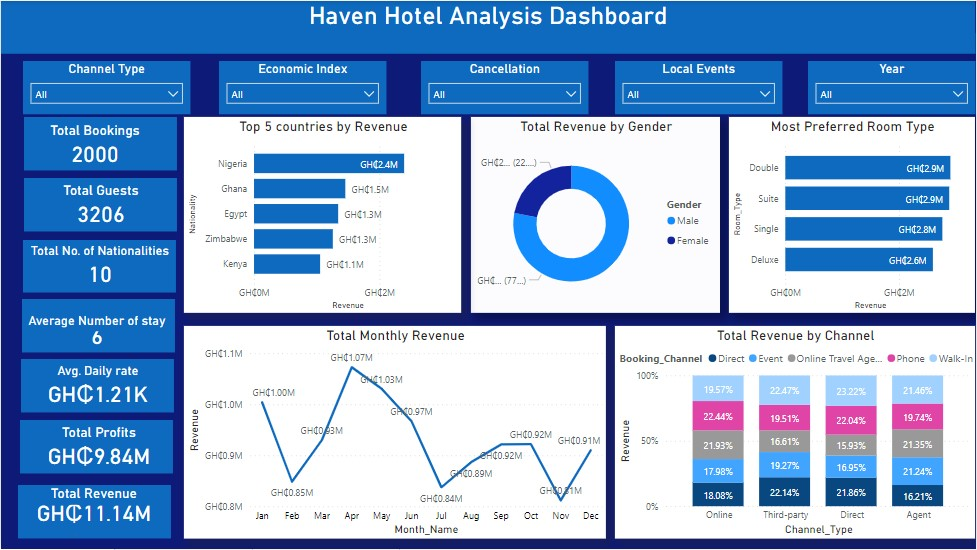

The page's visual inventory and layout, read from the dashboard file:
{"tool":"powerbi","page":{"name":"Hotel Overview ","canvas":[1280,720],"ordinal":0},"visuals":[{"type":"shape","box":[30.2,152.6,200.7,70.1],"z":0},{"type":"card","title":"Total Bookings","fields":{"Values":["Measures Table.Bookings count"]},"box":[22,159.5,202.1,60.5],"z":1000},{"type":"shape","box":[30.2,232.4,200.7,70.1],"z":2000},{"type":"shape","box":[27.5,391.8,200.7,70.1],"z":3000},{"type":"shape","box":[28.9,313.5,200.7,68.7],"z":4000},{"type":"card","title":"Average Number of stay","fields":{"Values":["Measures Table.Average stay"]},"box":[24.7,409.7,202.1,60.5],"z":5000},{"type":"card","title":"Total No. of Nationalities","fields":{"Values":["Measures Table.Nationalities"]},"box":[28.9,317.6,202.1,60.5],"z":6000},{"type":"card","title":"Total Guests","fields":{"Values":["Measures Table.Total Guests"]},"box":[30.2,237.9,202.1,60.5],"z":7000},{"type":"shape","box":[26.1,470.2,200.7,70.1],"z":8000},{"type":"card","title":"Avg. Daily rate","fields":{"Values":["Measures Table.Avg Daily Rate"]},"box":[26.1,475.7,202.1,60.5],"z":9000},{"type":"shape","box":[24.7,549.9,200.7,70.1],"z":10000},{"type":"card","title":"Total Profits","fields":{"Values":["Measures Table.Total Profit"]},"box":[27.5,555.4,202.1,60.5],"z":11000},{"type":"shape","box":[22,636.6,200.7,70.1],"z":12000},{"type":"card","title":"Total Revenue","fields":{"Values":["Measures Table.Revenue"]},"box":[20.6,636.6,202.1,70.1],"z":13000},{"type":"lineChart","title":"Total Monthly Revenue","fields":{"Category":["DateTable.Month_Name"],"Y":["Measures Table.Revenue"]},"box":[240.6,427.6,554.1,279.1],"z":14000},{"type":"donutChart","title":"Total Revenue by Gender","fields":{"Category":["Customer Table.Gender"],"Y":["Measures Table.Revenue"]},"box":[617.3,152.6,327.2,257.1],"z":15000},{"type":"hundredPercentStackedColumnChart","title":"Total Revenue by Channel","fields":{"Category":["Channel Table.Channel_Type"],"Y":["Measures Table.Revenue"],"Series":["Channel Table.Booking_Channel"]},"box":[807,427.6,473,279.1],"z":16000},{"type":"barChart","title":"Top 5 countries by Revenue","fields":{"Category":["Customer Table.Nationality"],"Y":["Measures Table.Revenue"]},"box":[240.6,152.6,364.3,257.1],"z":17000},{"type":"barChart","title":"Most Preferred Room Type","fields":{"Category":["Booking Table.Room_Type"],"Y":["Measures Table.Revenue"]},"box":[956.9,152.6,323.1,257.1],"z":18000},{"type":"shape","title":"Haven Hotel Analysis Dashboard","box":[0,0,1280,68.7],"z":19000},{"type":"slicer","title":"Channel Type","fields":{"Values":["Channel Table.Channel_Type"]},"box":[28.9,78.4,220,70.1],"z":20000},{"type":"slicer","title":"Economic Index","fields":{"Values":["Booking Table.Economic_Index"]},"box":[286,78.4,220,70.1],"z":21000},{"type":"slicer","title":"Cancellation","fields":{"Values":["Booking Table.Cancellation"]},"box":[551.3,78.4,220,70.1],"z":22000},{"type":"slicer","title":"Local Events","fields":{"Values":["Booking Table.Local_Events"]},"box":[807,78.4,220,70.1],"z":23000},{"type":"slicer","title":"Year","fields":{"Values":["DateTable.Year"]},"box":[1060,78.4,220,70.1],"z":24000}]}

Visuals, with their boxes in screenshot pixels (x1, y1, x2, y2), scaled from the page's 1280x720 canvas onto the 977x550 screenshot:
shape: Rect(23, 117, 176, 170)
"Total Bookings" card: Rect(17, 122, 171, 168)
shape: Rect(23, 178, 176, 231)
shape: Rect(21, 299, 174, 353)
shape: Rect(22, 239, 175, 292)
"Average Number of stay" card: Rect(19, 313, 173, 359)
"Total No. of Nationalities" card: Rect(22, 243, 176, 289)
"Total Guests" card: Rect(23, 182, 177, 228)
shape: Rect(20, 359, 173, 413)
"Avg. Daily rate" card: Rect(20, 363, 174, 410)
shape: Rect(19, 420, 172, 474)
"Total Profits" card: Rect(21, 424, 175, 470)
shape: Rect(17, 486, 170, 540)
"Total Revenue" card: Rect(16, 486, 170, 540)
"Total Monthly Revenue" lineChart: Rect(184, 327, 607, 540)
"Total Revenue by Gender" donutChart: Rect(471, 117, 721, 313)
"Total Revenue by Channel" hundredPercentStackedColumnChart: Rect(616, 327, 976, 540)
"Top 5 countries by Revenue" barChart: Rect(184, 117, 462, 313)
"Most Preferred Room Type" barChart: Rect(730, 117, 976, 313)
"Haven Hotel Analysis Dashboard" shape: Rect(0, 0, 976, 52)
"Channel Type" slicer: Rect(22, 60, 190, 113)
"Economic Index" slicer: Rect(218, 60, 386, 113)
"Cancellation" slicer: Rect(421, 60, 589, 113)
"Local Events" slicer: Rect(616, 60, 784, 113)
"Year" slicer: Rect(809, 60, 976, 113)
